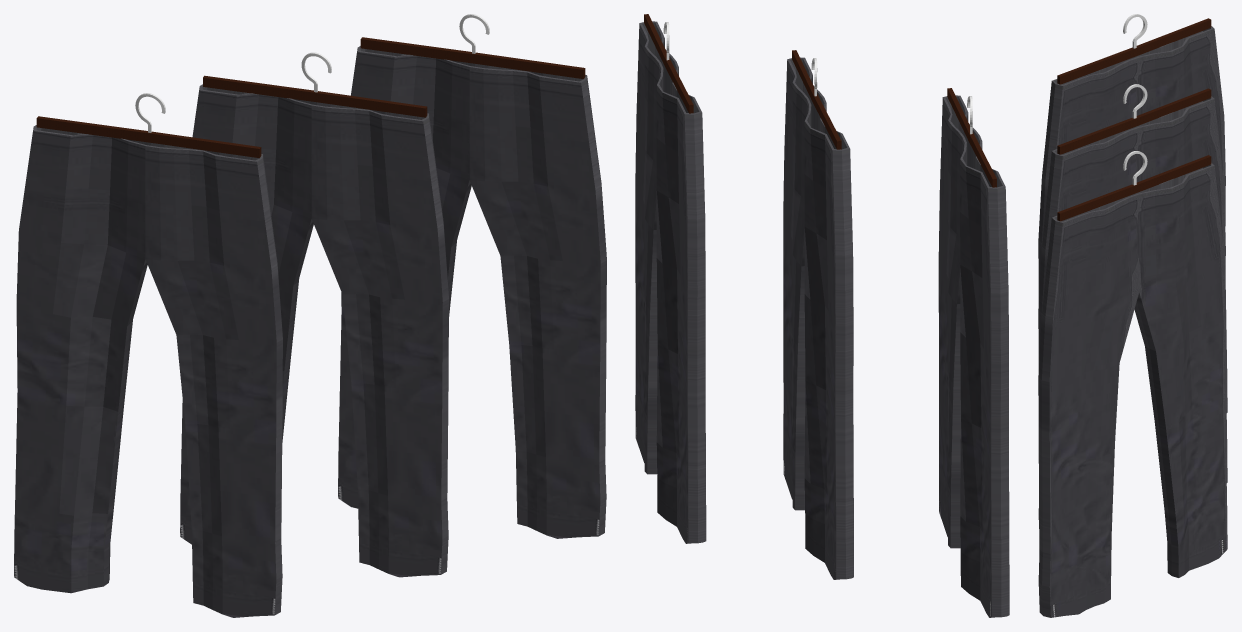
Rendered from chinogrey1.glb.
3 views of the same model, side by side, from view 1: azimuth 30°, elevation 25°; view 2: azimuth 150°, elevation 25°; view 3: azimuth 270°, elevation 25° (orthographic). The views are drawn at different scales.
Parts seen in each view (by area): view 1: Plane.330; view 2: Plane.330; view 3: Plane.330.
Boxes of the visible parts, <box> form: Plane.330: <box>14,14,606,617</box>; Plane.330: <box>635,14,1009,617</box>; Plane.330: <box>1038,14,1227,617</box>.
Size of the model in its own units: 0.482 by 0.4706 by 0.1839.
Materials: 3 (3 with a texture image).
